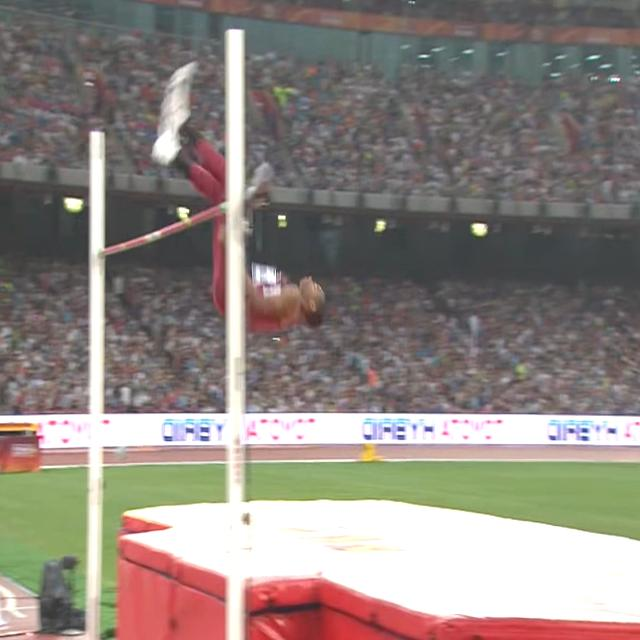land: (150, 62, 326, 331)
